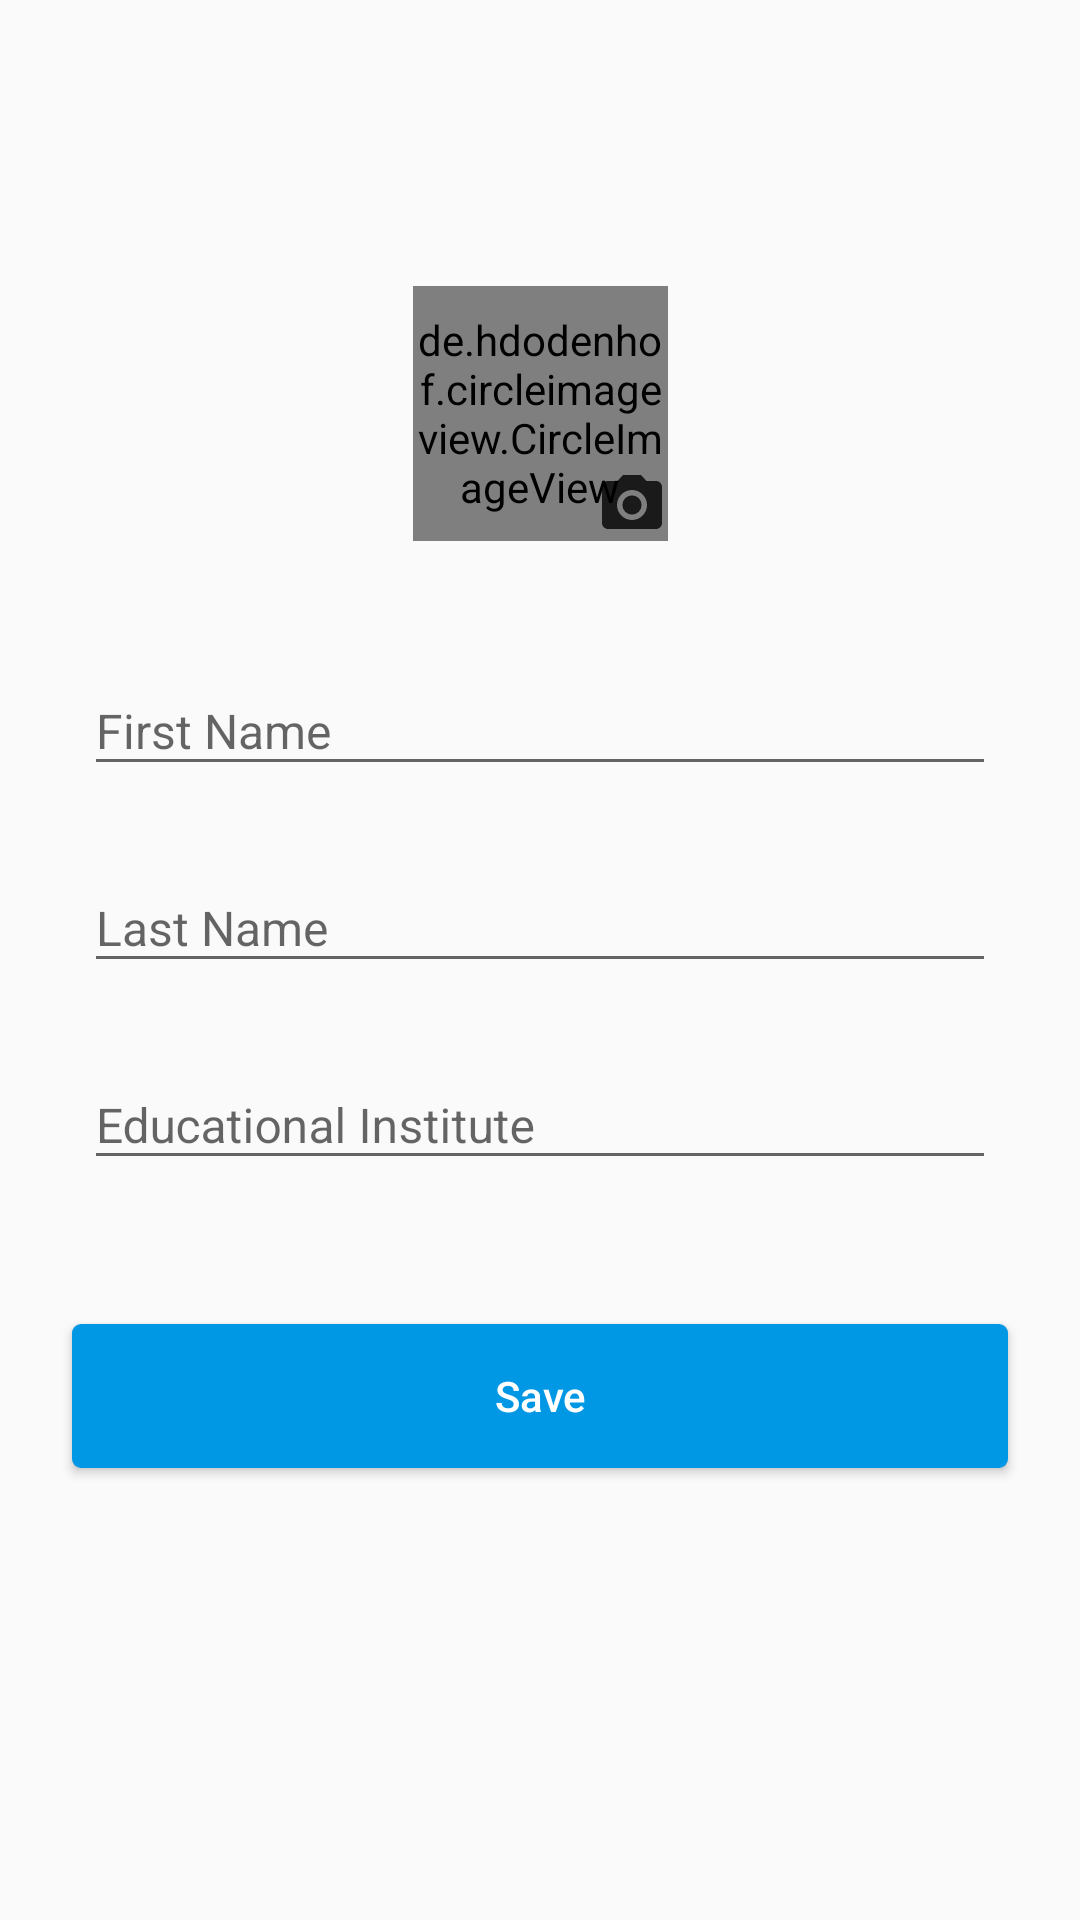

Icons on this 1080x1920 Android screen, each with the point to tap as (x,y):
camera: (629,502)
